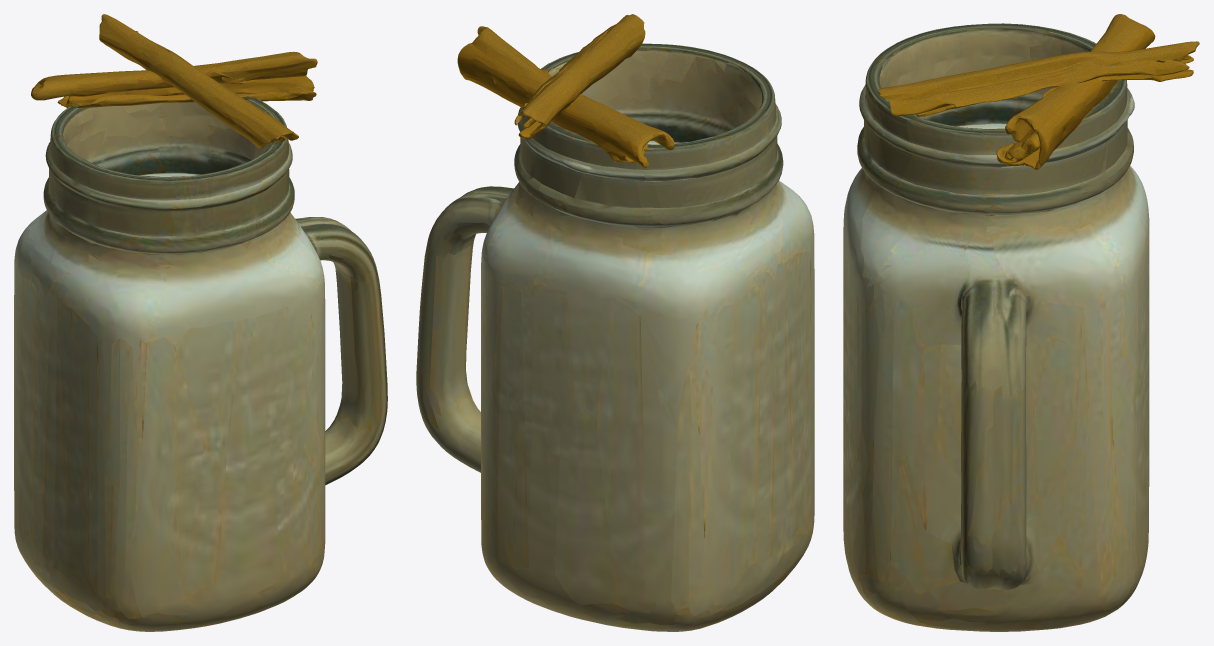
File: agua-fresca.glb
3 renders of one model, left to right at view 1: azimuth 30°, elevation 25°; view 2: azimuth 150°, elevation 25°; view 3: azimuth 270°, elevation 25°, orthographic. The views are drawn at different scales.
Size of the model in its own units: 1.33 by 1.9 by 1.11.
Materials: 1 (1 with a texture image).
